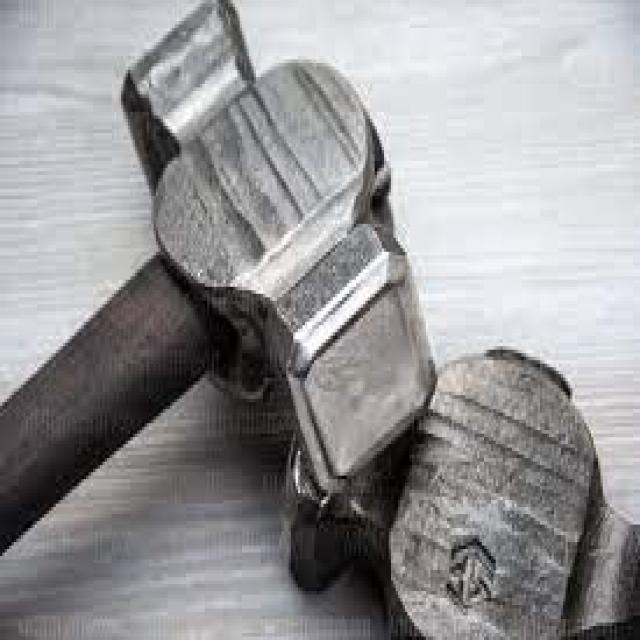hammer: (0, 0, 477, 504)
